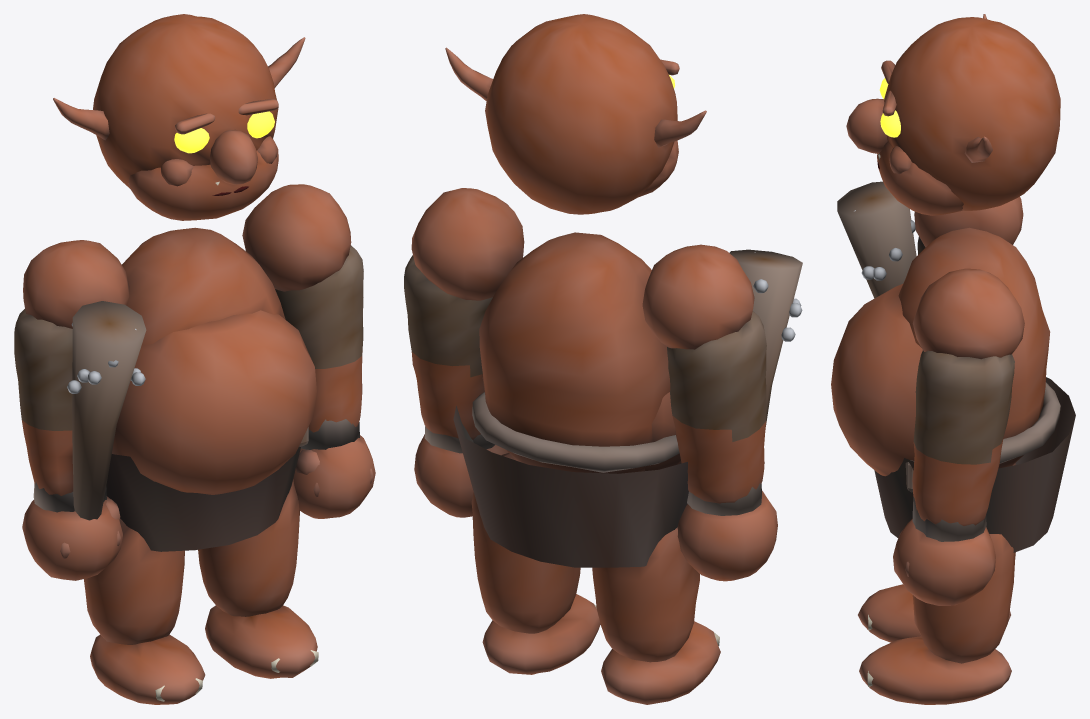
3 views of the same model, side by side, from view 1: azimuth 30°, elevation 25°; view 2: azimuth 150°, elevation 25°; view 3: azimuth 270°, elevation 25° (orthographic). The views are drawn at different scales.
Parts seen in each view (by area): view 1: torso, head, armR, armL, legR, legL, weapon; view 2: torso, head, armR, legR, armL, legL, weapon; view 3: torso, head, armL, legL, weapon, legR.
Boxes of the visible parts, x1,y1,x2,y2 form: torso: (23, 184, 351, 551); head: (53, 14, 305, 220); armR: (14, 309, 122, 580); armL: (275, 245, 375, 518); legR: (84, 518, 205, 704); legL: (198, 479, 318, 678); weapon: (67, 301, 146, 520); torso: (411, 188, 754, 567); head: (445, 14, 706, 214); armR: (667, 311, 777, 581); legR: (592, 527, 720, 704); armL: (404, 255, 508, 517); legL: (471, 453, 600, 674); weapon: (729, 249, 802, 424); torso: (831, 196, 1075, 552); head: (846, 14, 1060, 215); armL: (893, 350, 1014, 605); legL: (859, 534, 1015, 704); weapon: (837, 181, 916, 298); legR: (858, 463, 1015, 642).
Bounding box in the file's own units: 0.5195 × 0.9487 × 0.3264.
